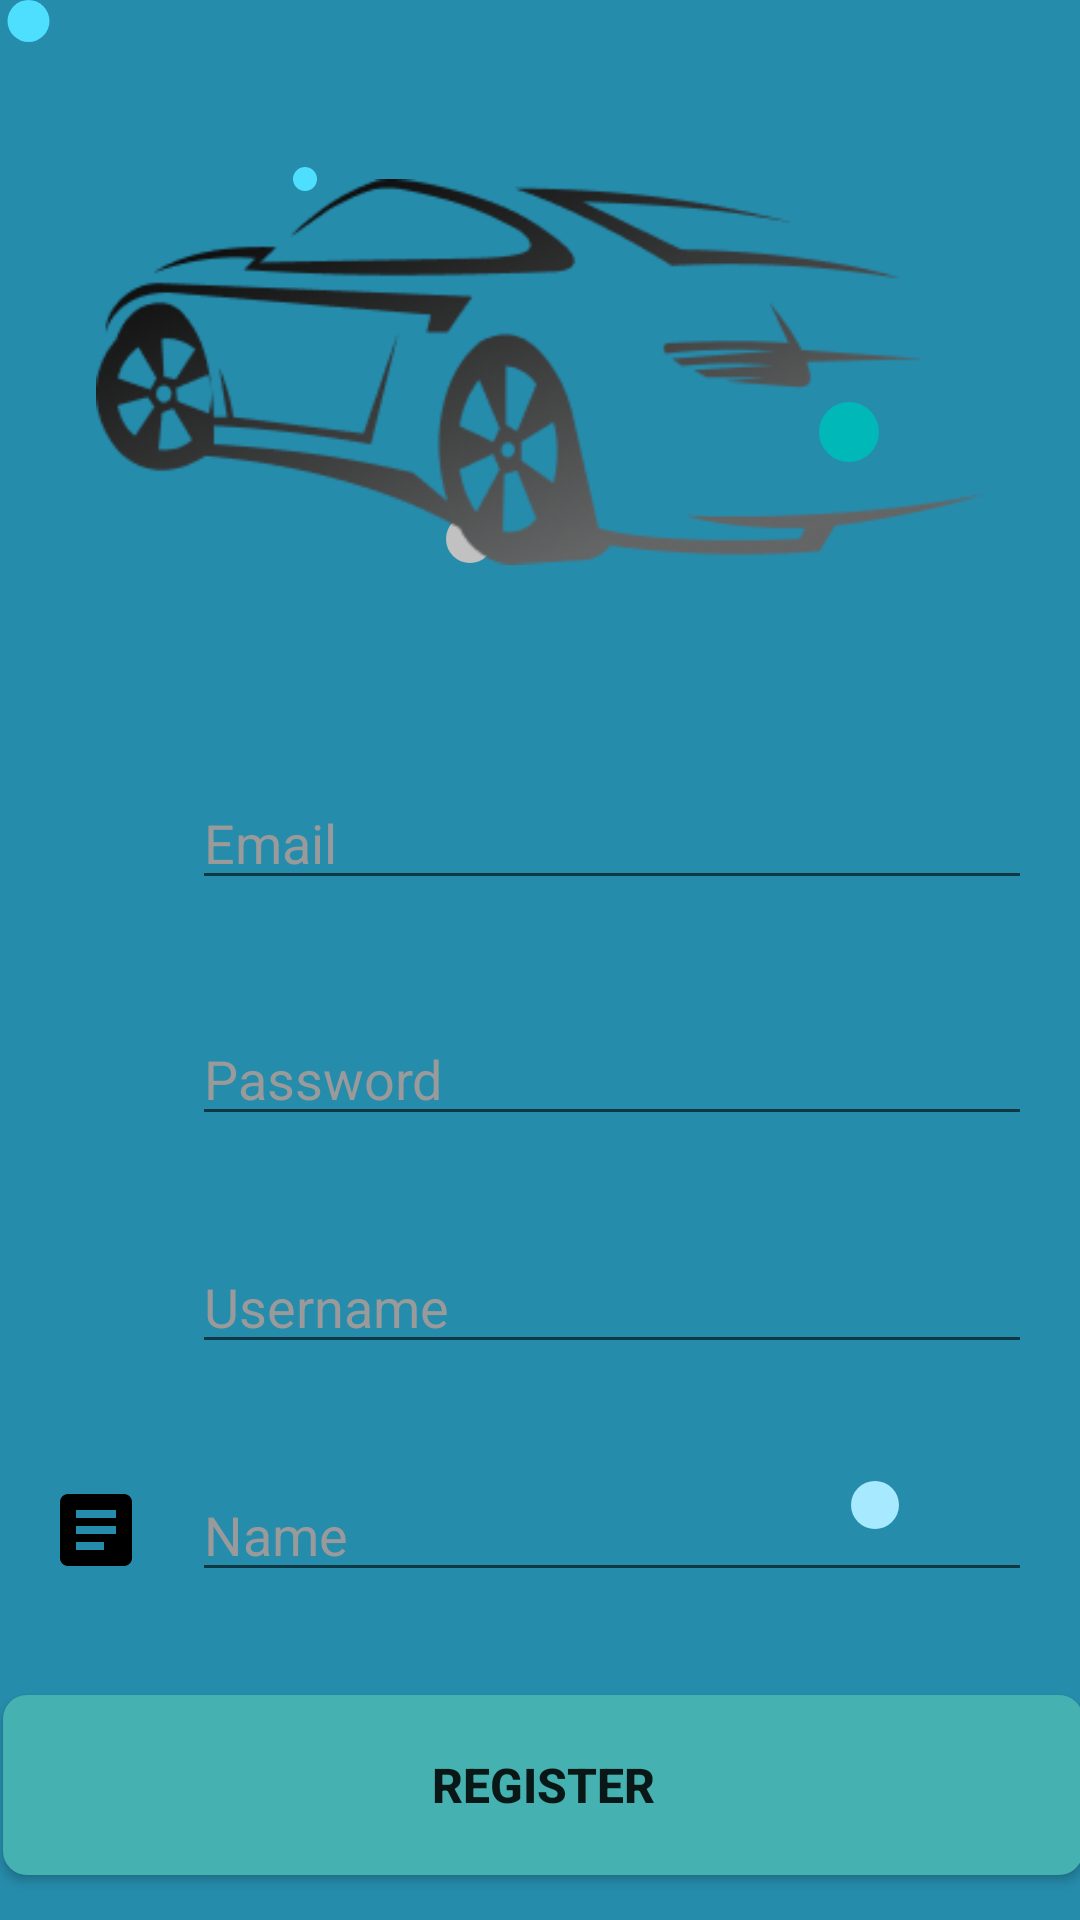

Locate icon controls on the screen. Image size 1080x1920, boxes as (x1, y1, x2, y2).
file: (60, 1494, 132, 1566)
